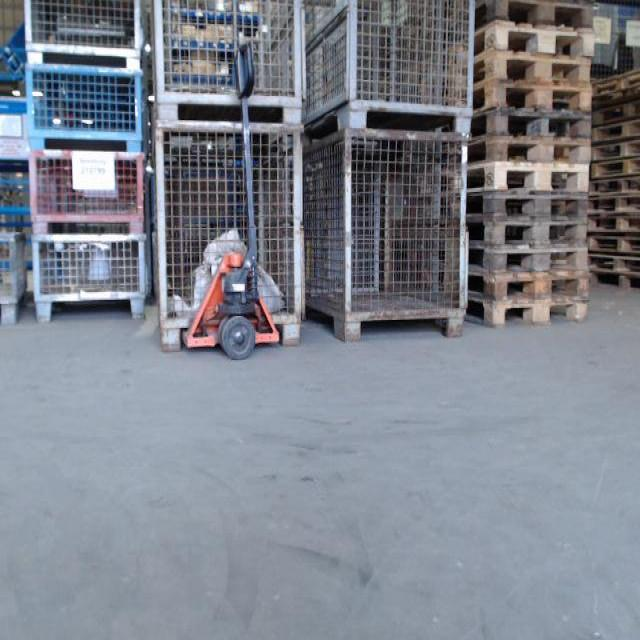pallet: (478, 28, 596, 60), (470, 117, 594, 147), (474, 86, 596, 116), (476, 60, 595, 90), (476, 2, 596, 31), (471, 140, 595, 167), (471, 195, 590, 223), (469, 169, 590, 196), (469, 250, 588, 274), (471, 225, 588, 249), (469, 275, 590, 298), (469, 303, 588, 323), (592, 161, 640, 182), (599, 69, 639, 91), (590, 195, 636, 213), (588, 256, 639, 272), (599, 91, 639, 111), (596, 108, 639, 126), (591, 216, 637, 232), (592, 237, 638, 253), (591, 179, 640, 194), (594, 128, 637, 145), (598, 145, 639, 162), (595, 273, 638, 286)
pallet_truck: (181, 39, 289, 360)
stillage: (298, 136, 470, 344), (155, 119, 299, 353), (302, 0, 475, 133), (152, 1, 302, 123), (24, 63, 144, 146), (31, 237, 144, 325), (28, 151, 142, 234), (23, 2, 145, 65)
